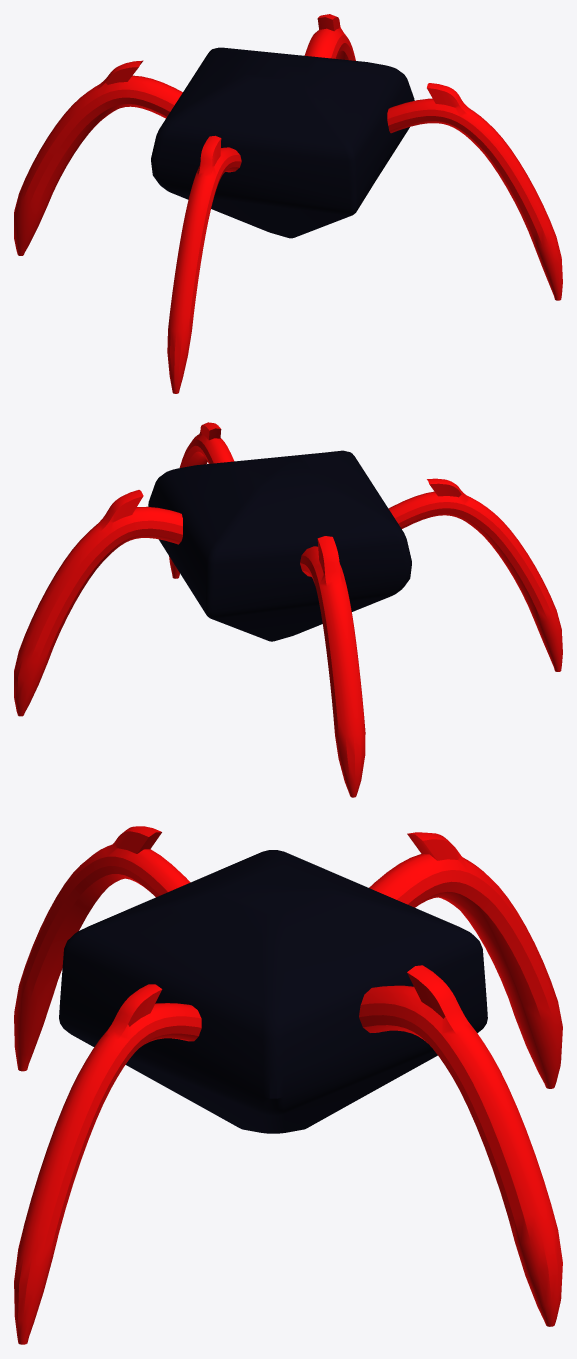
The model's file is Web_Shot_-_Base_V2.fbx.
3 views of the same model, one above another, from view 1: azimuth 30°, elevation 25°; view 2: azimuth 150°, elevation 25°; view 3: azimuth 270°, elevation 25° (orthographic). The views are drawn at different scales.
Visible parts, largest first — view 1: Body and Legs; view 2: Body and Legs; view 3: Body and Legs.
Boxes of the visible parts, box(x1,y1,x2,y2) form: Body and Legs: box(14, 14, 562, 393); Body and Legs: box(14, 422, 562, 797); Body and Legs: box(14, 826, 562, 1344).
Bounding box in the file's own units: 115 × 60.26 × 95.06.
